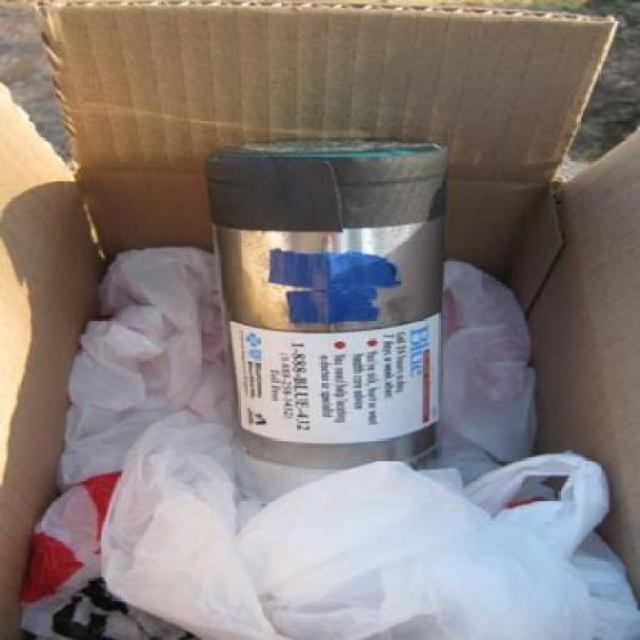plastic bag: (14, 242, 637, 638)
